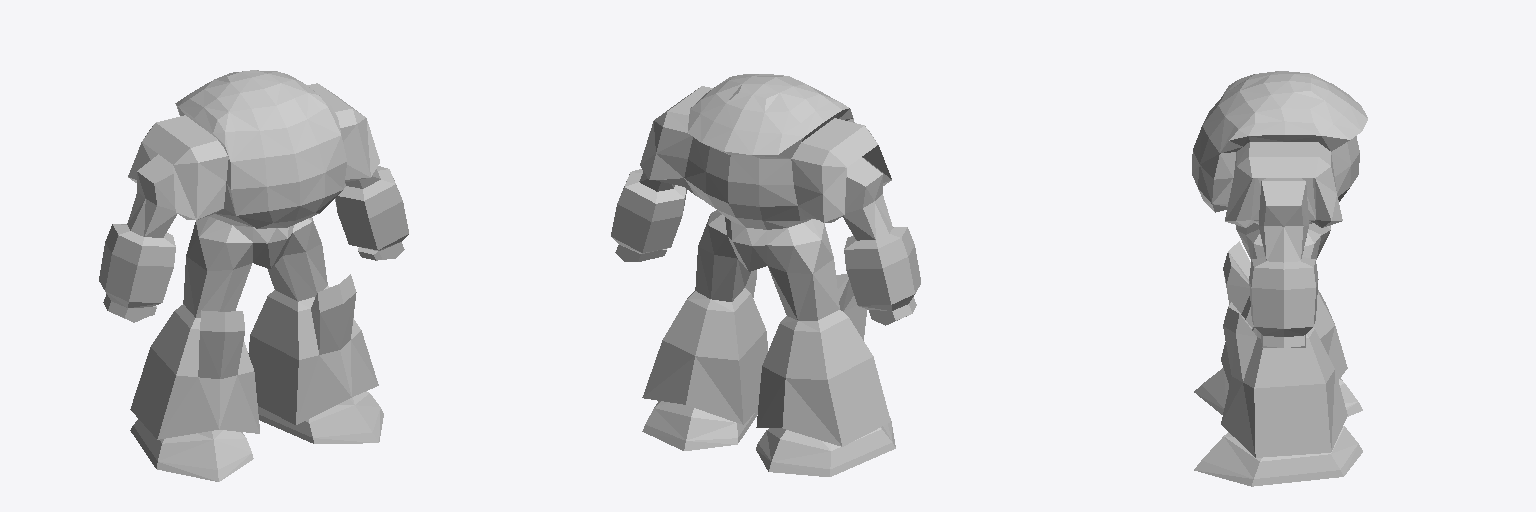
Rendered from btr_haiho.obj.
3 renders of one model, left to right at view 1: azimuth 30°, elevation 25°; view 2: azimuth 150°, elevation 25°; view 3: azimuth 270°, elevation 25°, orthographic.
Visible parts, largest first — view 1: haiho; view 2: haiho; view 3: haiho.
Part boxes in pixels (left/top/right/bottom): haiho: left=99, top=70, right=408, bottom=481; haiho: left=611, top=74, right=920, bottom=476; haiho: left=1192, top=71, right=1367, bottom=486.
Size of the model in its own units: 0.5198 by 0.5834 by 0.2666.